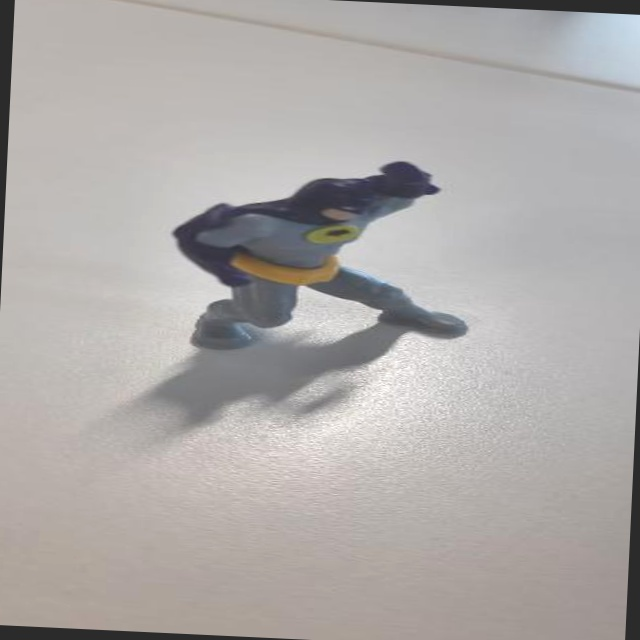Batman: (140, 144, 499, 374)
